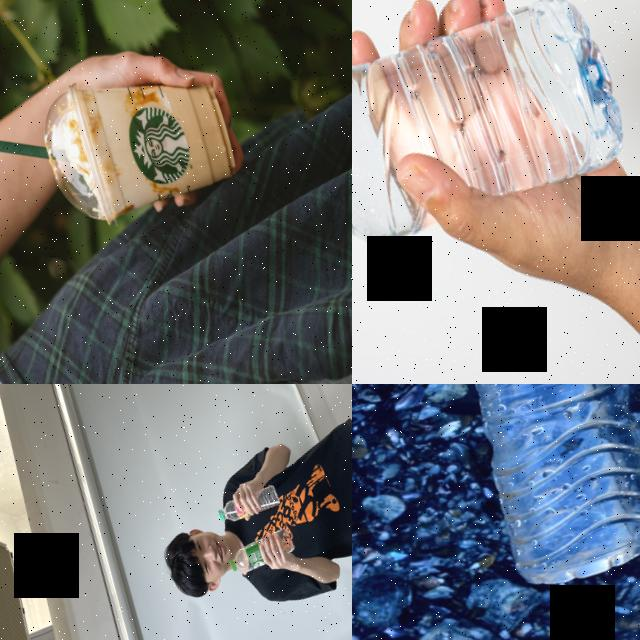bottle: (352, 0, 640, 285), (225, 526, 298, 576), (214, 482, 282, 526)
cup: (24, 39, 248, 240)
